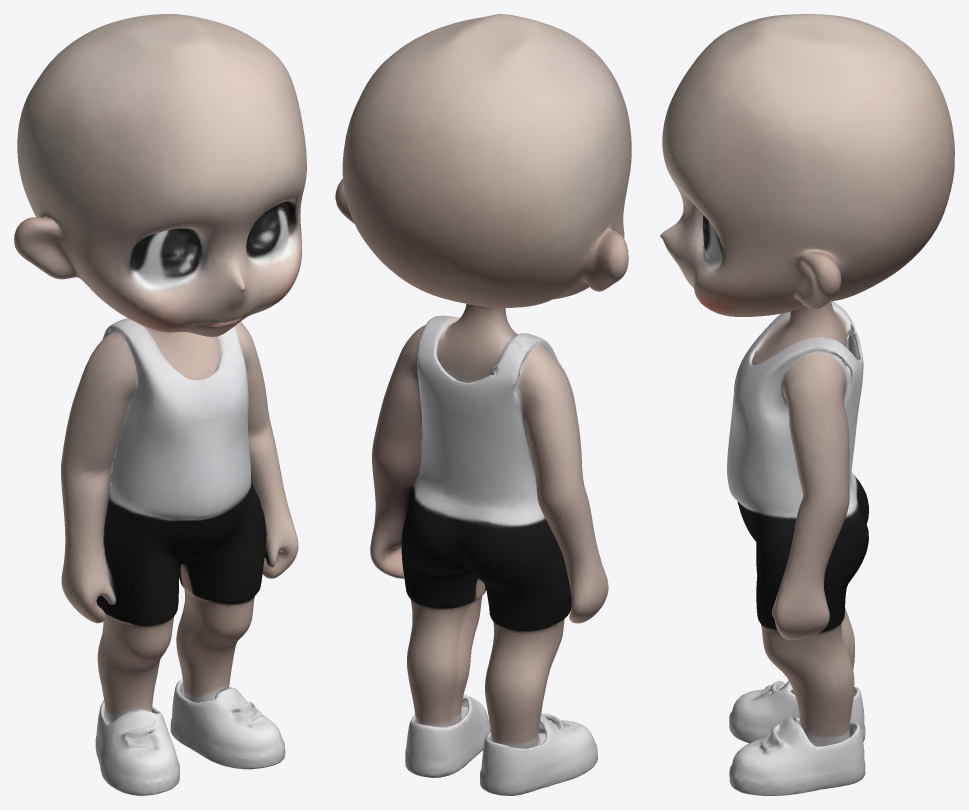
The model's file is Chibi Boy Keychain.glb.
The picture shows the model from 3 angles, left to right: view 1: azimuth 30°, elevation 25°; view 2: azimuth 150°, elevation 25°; view 3: azimuth 270°, elevation 25°; orthographic projection.
Visible parts, largest first — view 1: world; view 2: world; view 3: world.
Part boxes in pixels (bbox=[...]): world: bbox=[14, 14, 306, 795]; world: bbox=[335, 14, 631, 795]; world: bbox=[660, 14, 954, 795].
Bounding box in the file's own units: 0.4133 × 1 × 0.3684.
1 material, 1 textured.
